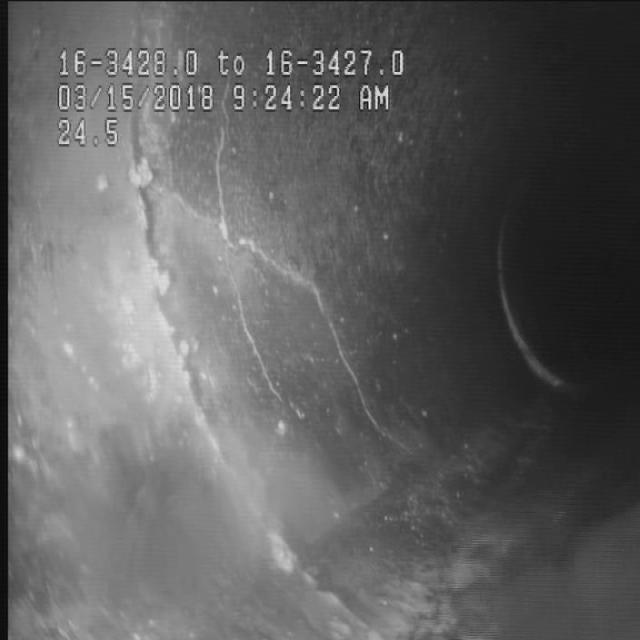Crack: (168, 174, 418, 434)
